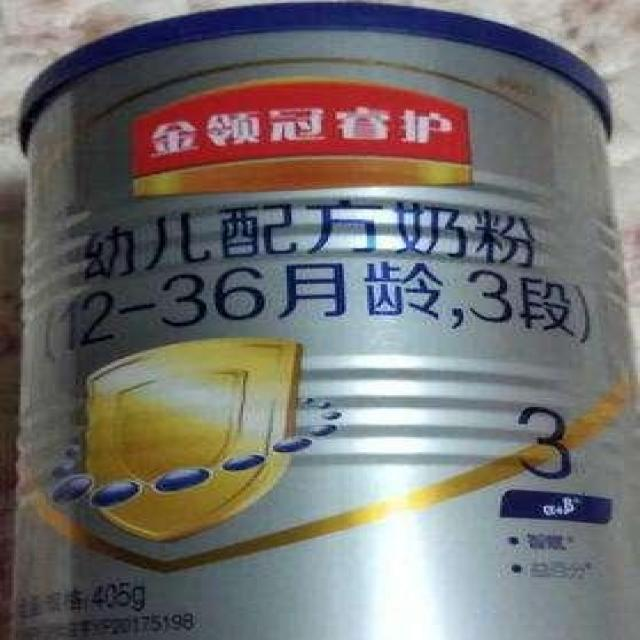-Recyclables - can-: (11, 6, 640, 640)
